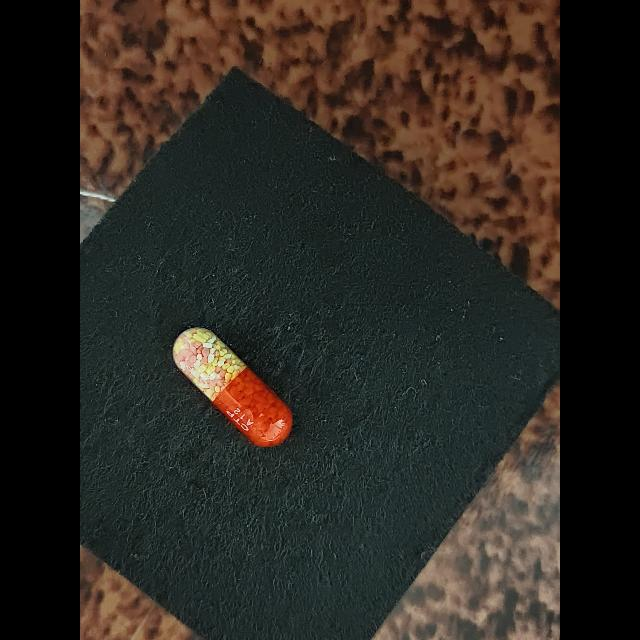Intact Capsule: (172, 328, 292, 447)
